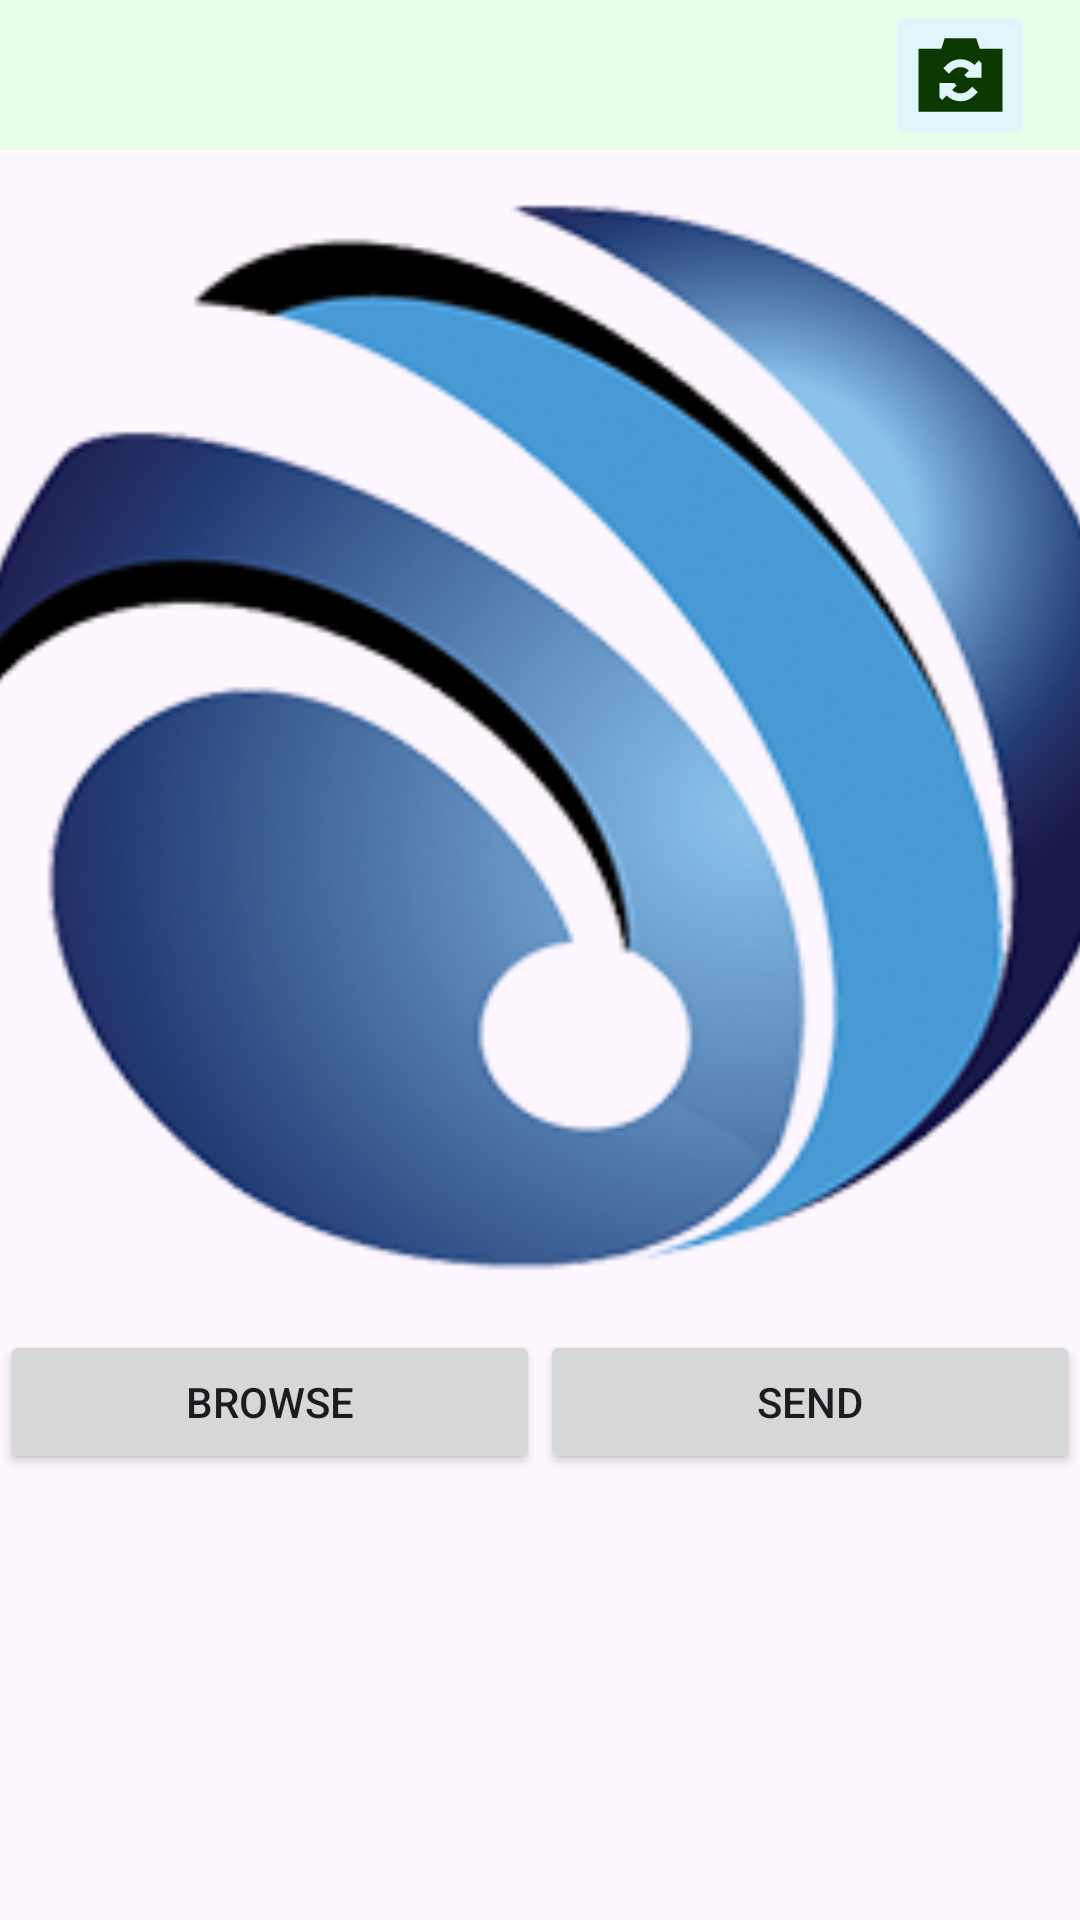

Locate icon controls on the screen. Image size 1080 x 1920, boxes as (x1, y1, x2, y2).
camera rotate: (918, 38, 1003, 112)
